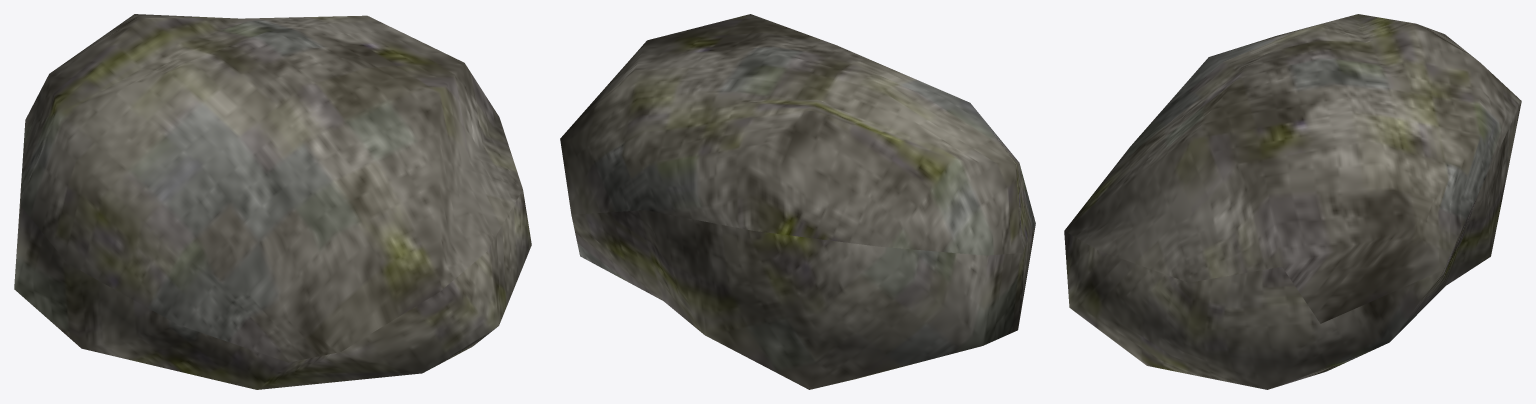
File: mesh_stone-cliff-b.fbx
The picture shows the model from 3 angles, left to right: view 1: azimuth 30°, elevation 25°; view 2: azimuth 150°, elevation 25°; view 3: azimuth 270°, elevation 25°; orthographic projection. The views are drawn at different scales.
Visible parts, largest first — view 1: stone-cliff-b; view 2: stone-cliff-b; view 3: stone-cliff-b.
Part boxes in pixels (left/top/right/bottom): stone-cliff-b: left=14, top=14, right=531, bottom=389; stone-cliff-b: left=560, top=14, right=1035, bottom=389; stone-cliff-b: left=1064, top=14, right=1521, bottom=389.
Size of the model in its own units: 23.98 by 14.89 by 22.94.
1 material, 1 textured.
